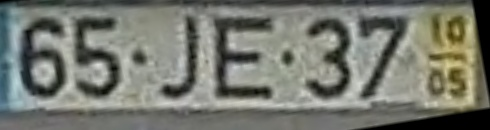3: (300, 13, 356, 105)
5: (73, 14, 125, 103)
6: (17, 13, 71, 103)
7: (356, 14, 414, 104)
E: (211, 14, 277, 103)
J: (154, 14, 202, 103)
